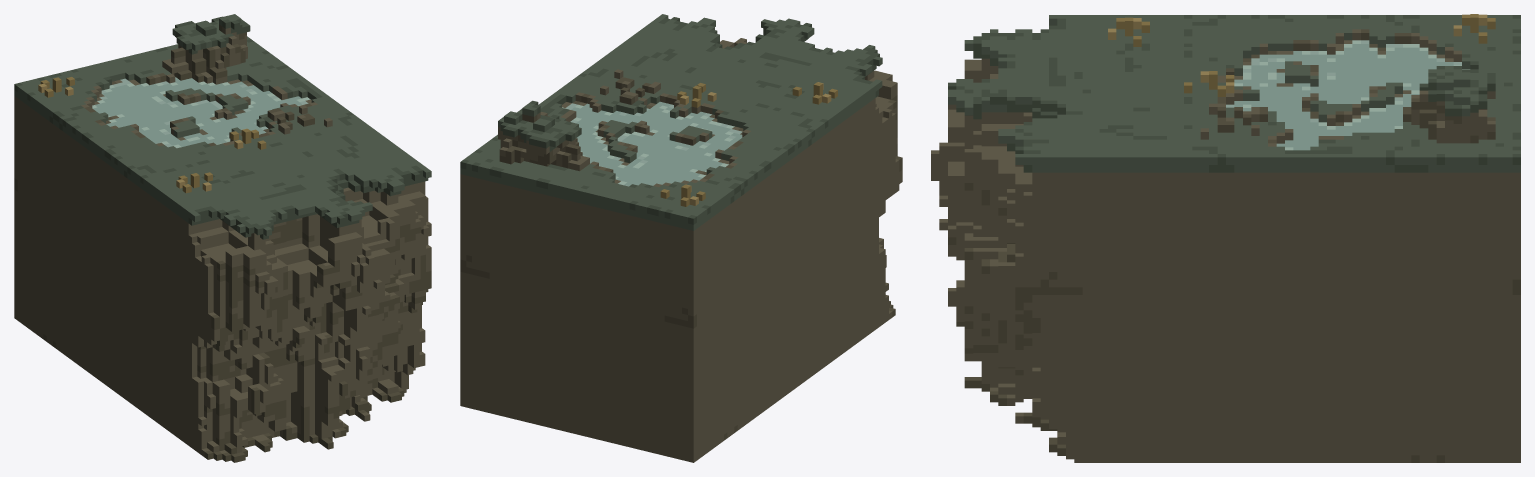
Rendered from MountainRocks-4.obj.
3 renders of one model, left to right at view 1: azimuth 30°, elevation 25°; view 2: azimuth 150°, elevation 25°; view 3: azimuth 270°, elevation 25°, orthographic. The views are drawn at different scales.
Size of the model in its own units: 4 by 4.7 by 7.
Materials: 1 (1 with a texture image).
